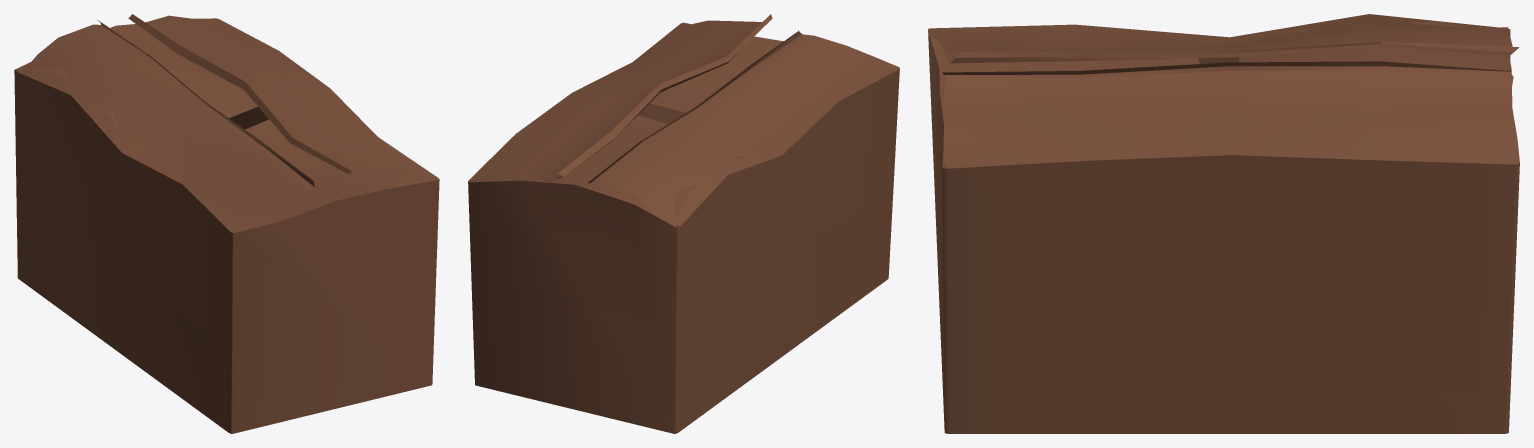
The model's file is CardboardBox_2.fbx.
The picture shows the model from 3 angles, left to right: view 1: azimuth 30°, elevation 25°; view 2: azimuth 150°, elevation 25°; view 3: azimuth 270°, elevation 25°; orthographic projection. The views are drawn at different scales.
Visible parts, largest first — view 1: Cube.002; view 2: Cube.002; view 3: Cube.002.
Boxes of the visible parts, box(x1,y1,x2,y2) form: Cube.002: box(14, 14, 439, 433); Cube.002: box(468, 14, 899, 433); Cube.002: box(928, 14, 1519, 433).
Bounding box in the file's own units: 62.06 × 66.65 × 112.
